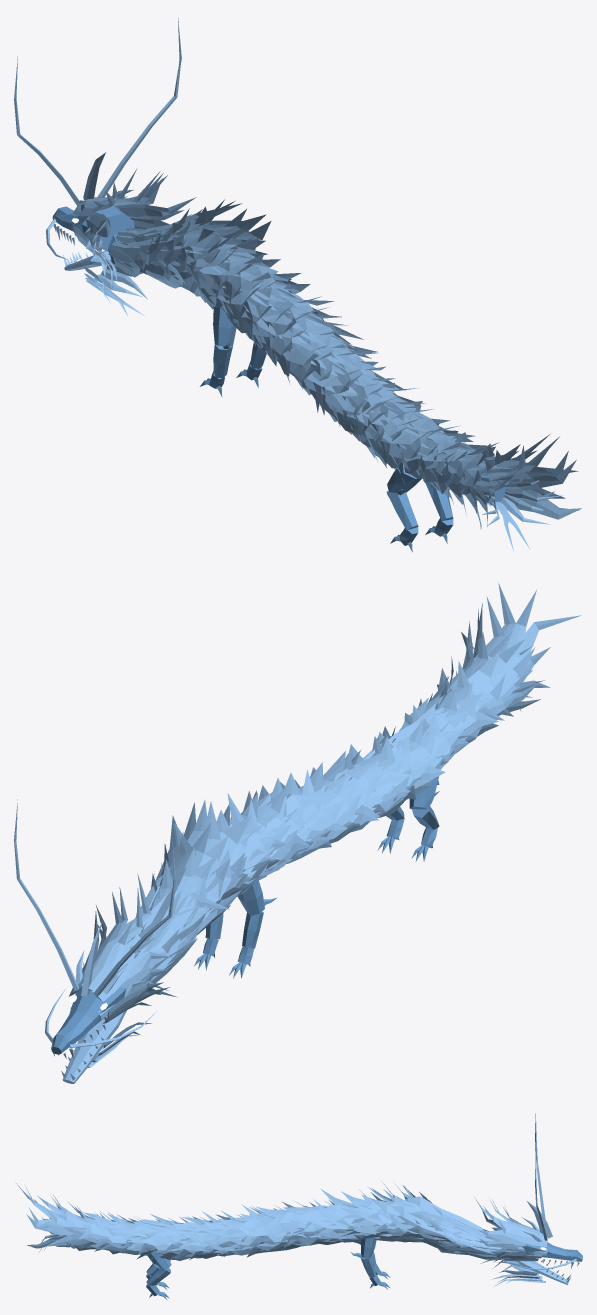
Rendered from Dragon_Cristal.glb.
The picture shows the model from 3 angles, top to bottom: view 1: azimuth 30°, elevation 25°; view 2: azimuth 150°, elevation 25°; view 3: azimuth 270°, elevation 25°; orthographic projection. The views are drawn at different scales.
Parts seen in each view (by area): view 1: Head_Blades, Seg30_Blades, Seg11_Blades, Head_Jaw, Seg05_Blades, Seg13_Blades, Seg08_Blades, Seg25_LegBL, Seg14_Blades, Seg04_Blades, Seg17_Blades, Seg10_LegFL (+24 smaller); view 2: Head_Blades, Seg03_Blades, Seg04_Blades, Seg30_Blades, Head_Jaw, Head, Seg05_Blades, Seg28_Blades, Seg02_Blades, Seg27_Blades, Seg29_Blades, Seg10_LegFL (+23 smaller); view 3: Head_Blades, Seg03_Blades, Head_Jaw, Seg08_Blades, Seg04_Blades, Seg13_Blades, Seg02_Blades, Seg22_Blades, Seg16_Blades, Seg01_Blades, Seg29_Blades, Seg28_Blades (+23 smaller).
Boxes of the visible parts, x1=… form: Head_Blades: x1=14, y1=18, x2=196, y2=293; Seg30_Blades: x1=475, y1=436, x2=581, y2=552; Seg11_Blades: x1=226, y1=280, x2=334, y2=346; Head_Jaw: x1=62, y1=250, x2=147, y2=315; Seg05_Blades: x1=150, y1=209, x2=271, y2=287; Seg13_Blades: x1=255, y1=303, x2=363, y2=366; Seg08_Blades: x1=197, y1=251, x2=291, y2=309; Seg25_LegBL: x1=386, y1=462, x2=421, y2=552; Seg14_Blades: x1=275, y1=315, x2=377, y2=384; Seg04_Blades: x1=145, y1=199, x2=266, y2=279; Seg17_Blades: x1=303, y1=348, x2=405, y2=415; Seg10_LegFL: x1=200, y1=306, x2=236, y2=396; Head_Blades: x1=14, y1=799, x2=179, y2=1058; Seg03_Blades: x1=134, y1=822, x2=242, y2=946; Seg04_Blades: x1=149, y1=801, x2=230, y2=933; Seg30_Blades: x1=472, y1=582, x2=581, y2=711; Head_Jaw: x1=61, y1=1010, x2=151, y2=1083; Head: x1=51, y1=987, x2=126, y2=1054; Seg05_Blades: x1=182, y1=799, x2=251, y2=918; Seg28_Blades: x1=449, y1=630, x2=535, y2=716; Seg02_Blades: x1=126, y1=856, x2=229, y2=969; Seg27_Blades: x1=437, y1=650, x2=505, y2=745; Seg29_Blades: x1=456, y1=596, x2=540, y2=715; Seg10_LegFL: x1=229, y1=878, x2=277, y2=978; Head_Blades: x1=474, y1=1113, x2=579, y2=1269; Seg03_Blades: x1=405, y1=1192, x2=482, y2=1248; Head_Jaw: x1=492, y1=1259, x2=570, y2=1286; Seg08_Blades: x1=341, y1=1191, x2=396, y2=1241; Seg04_Blades: x1=391, y1=1183, x2=460, y2=1247; Seg13_Blades: x1=256, y1=1205, x2=320, y2=1248; Seg02_Blades: x1=420, y1=1193, x2=492, y2=1254; Seg22_Blades: x1=132, y1=1216, x2=193, y2=1259; Seg16_Blades: x1=217, y1=1210, x2=284, y2=1257; Seg01_Blades: x1=434, y1=1216, x2=502, y2=1259; Seg29_Blades: x1=36, y1=1195, x2=91, y2=1247; Seg28_Blades: x1=50, y1=1195, x2=100, y2=1250.
Bounding box in the file's own units: 15.57 × 24.19 × 78.49.
